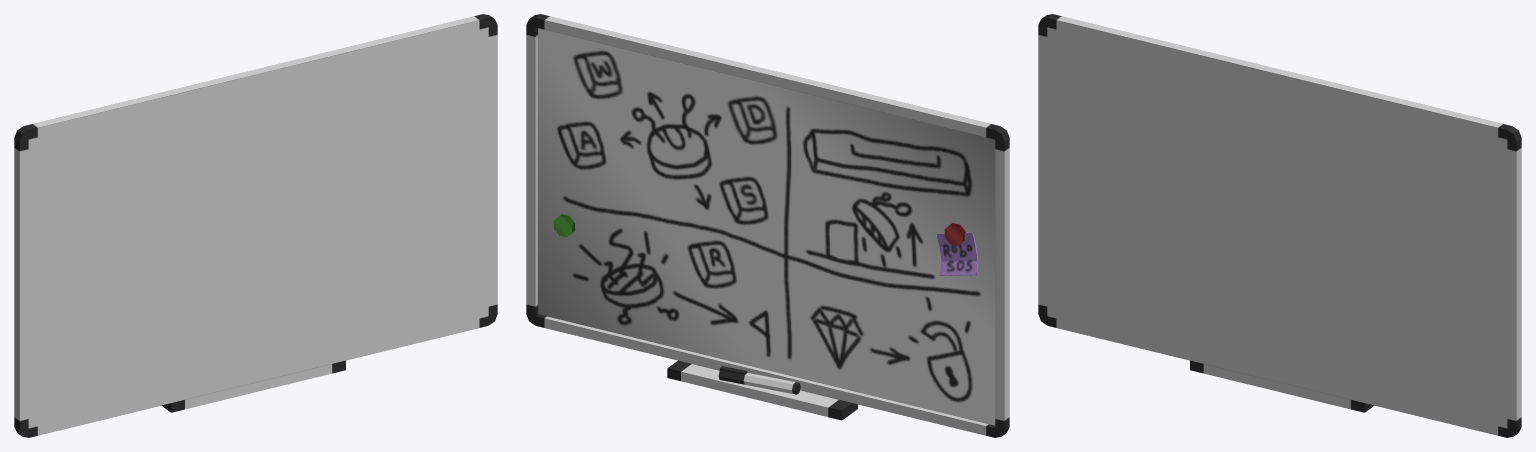
The model's file is whiteboard.obj.
3 renders of one model, left to right at view 1: azimuth 30°, elevation 25°; view 2: azimuth 150°, elevation 25°; view 3: azimuth 330°, elevation 25°, orthographic.
Parts seen in each view (by area): view 1: whiteboard; view 2: whiteboard, sticker, marker; view 3: whiteboard.
Boxes of the visible parts, box(x1,y1,x2,y2) form: whiteboard: box(14, 14, 497, 437); whiteboard: box(526, 14, 1009, 437); sticker: box(936, 232, 978, 275); marker: box(718, 366, 800, 394); whiteboard: box(1038, 14, 1521, 437).
Size of the model in its own units: 1.62 by 1.03 by 0.0955.
Materials: 3 (3 with a texture image).
